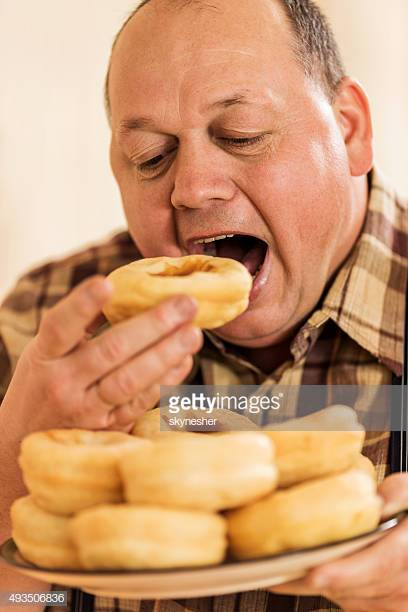eating: (20, 4, 407, 462)
